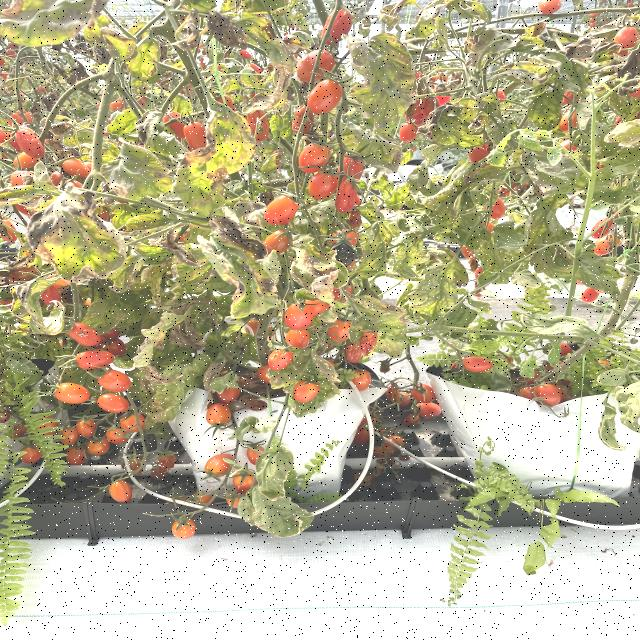Obstacle: (29, 258, 386, 396)
Soilbag: (432, 359, 639, 498), (175, 381, 376, 503)
plant: (394, 85, 640, 359)
